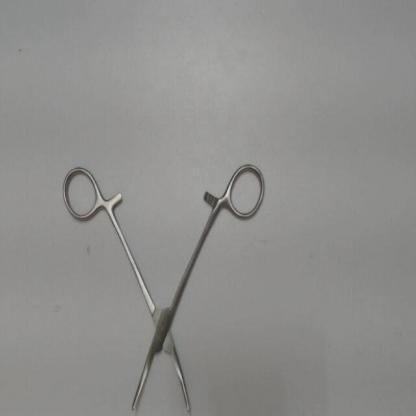Crile Artery Forceps: (61, 154, 272, 413)
